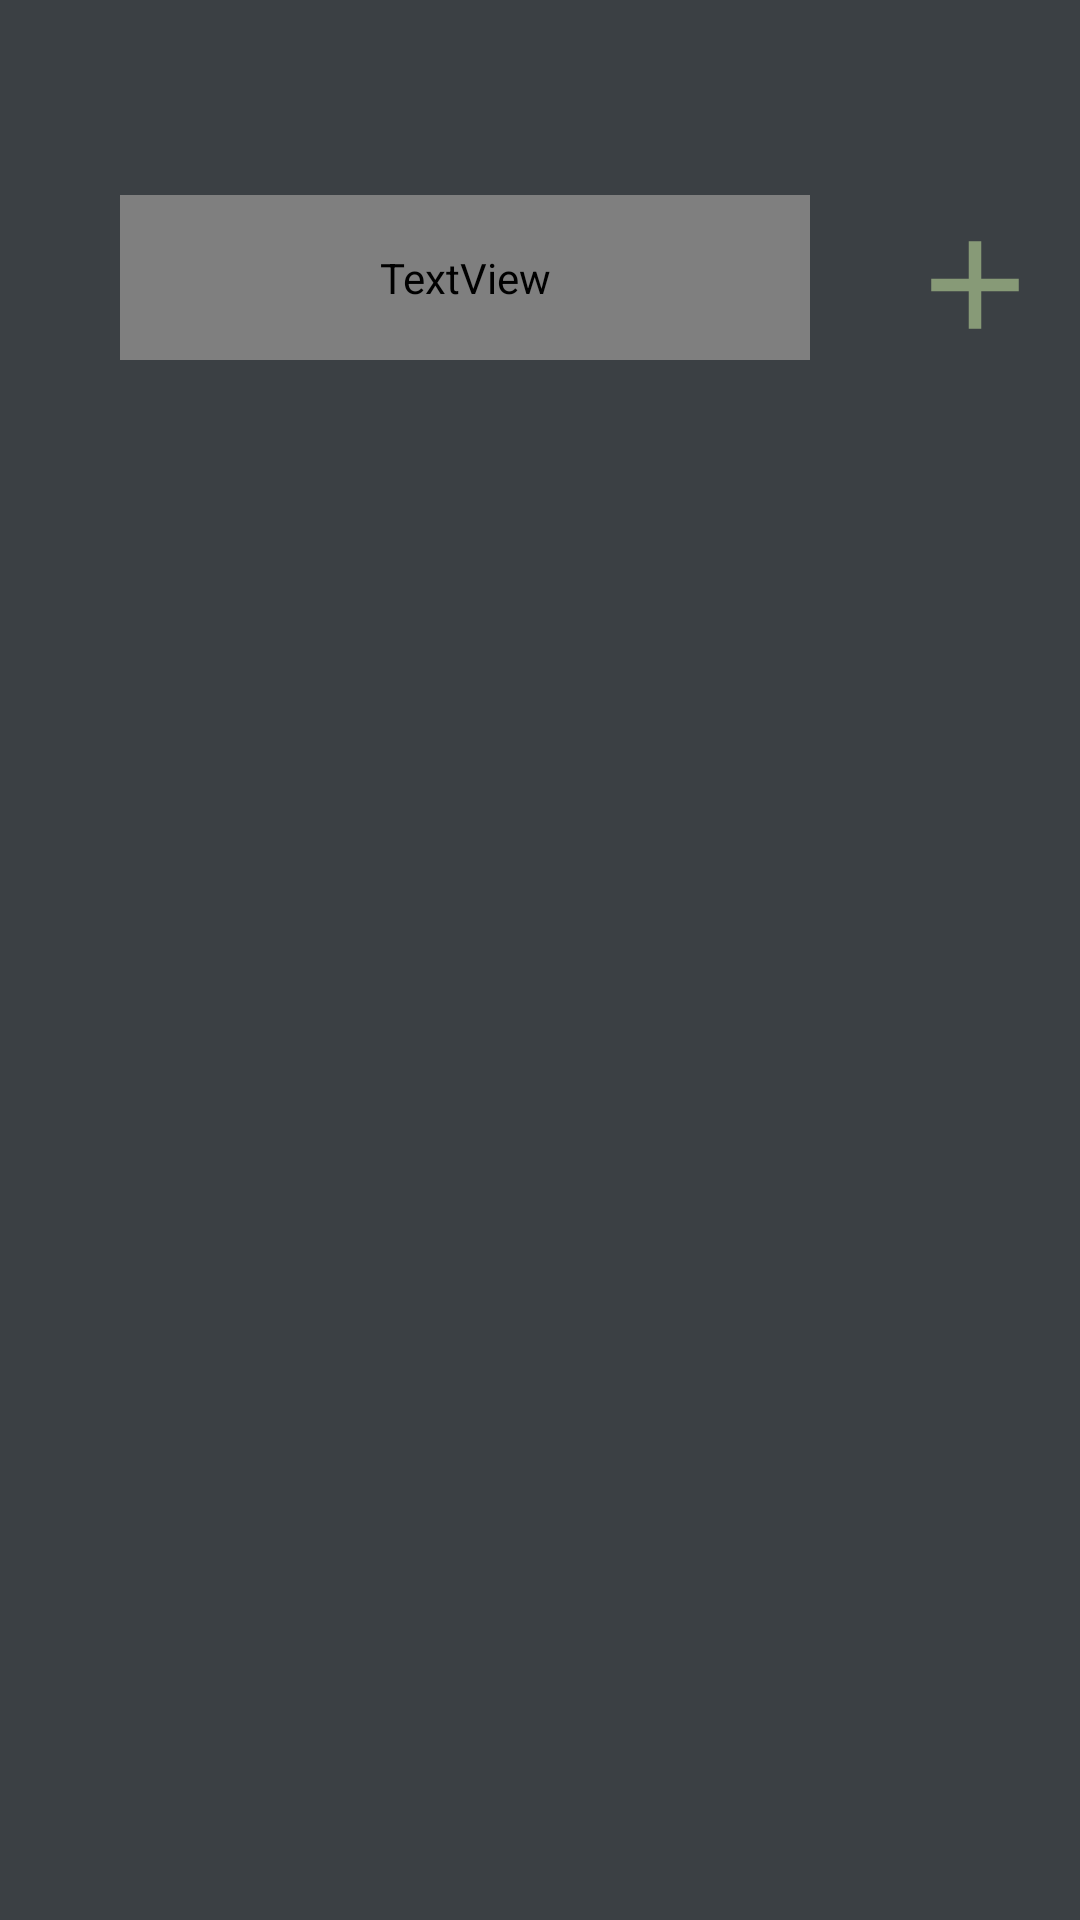

Named icons in this screenshot (1080*1920) and their bounding boxes, rect(x1, y1, x2, y2):
add: rect(931, 241, 1019, 329)
